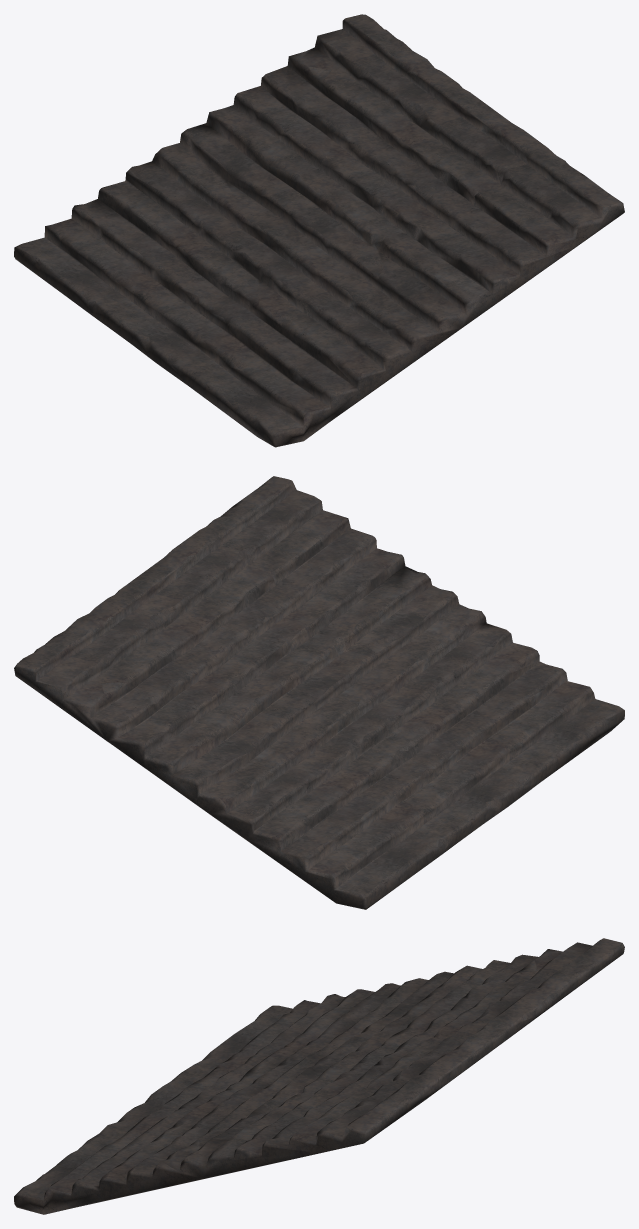
File: SM_BossRoomStairs.fbx
3 renders of one model, top to bottom at view 1: azimuth 30°, elevation 25°; view 2: azimuth 150°, elevation 25°; view 3: azimuth 330°, elevation 25°, orthographic.
Parts seen in each view (by area): view 1: SM_BossRoomStairs_LOD0; view 2: SM_BossRoomStairs_LOD0; view 3: SM_BossRoomStairs_LOD0.
Part boxes in pixels (x1,y1,x2,y2): SM_BossRoomStairs_LOD0: (14, 14, 624, 447); SM_BossRoomStairs_LOD0: (14, 476, 624, 909); SM_BossRoomStairs_LOD0: (14, 938, 624, 1214).
Bounding box in the file's own units: 475 × 607 × 208.
Materials: 1 (1 with a texture image).
